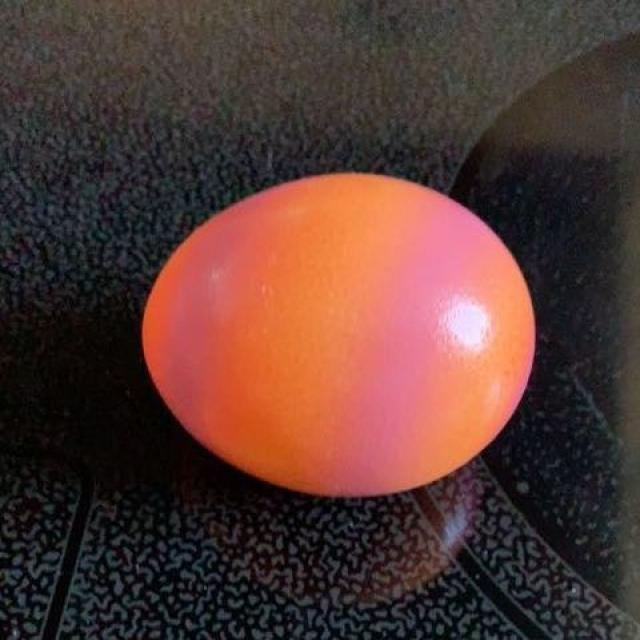egg: (159, 181, 526, 490)
